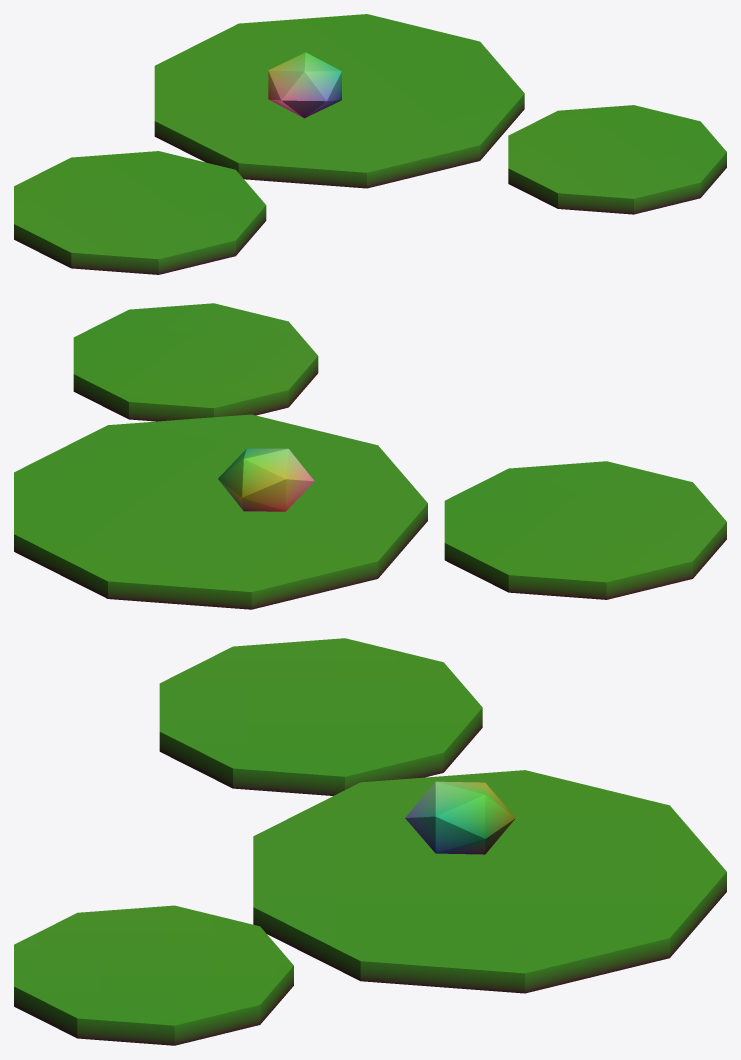
The model's file is LilyPads.fbx.
3 views of the same model, one above another, from view 1: azimuth 30°, elevation 25°; view 2: azimuth 150°, elevation 25°; view 3: azimuth 270°, elevation 25° (orthographic). The views are drawn at different scales.
Parts seen in each view (by area): view 1: LilyPads; view 2: LilyPads; view 3: LilyPads.
Boxes of the visible parts, bbox=[...] form: LilyPads: bbox=[14, 14, 726, 274]; LilyPads: bbox=[14, 303, 726, 609]; LilyPads: bbox=[14, 638, 726, 1045].
Size of the model in its own units: 0.8257 by 0.0798 by 0.6422.
